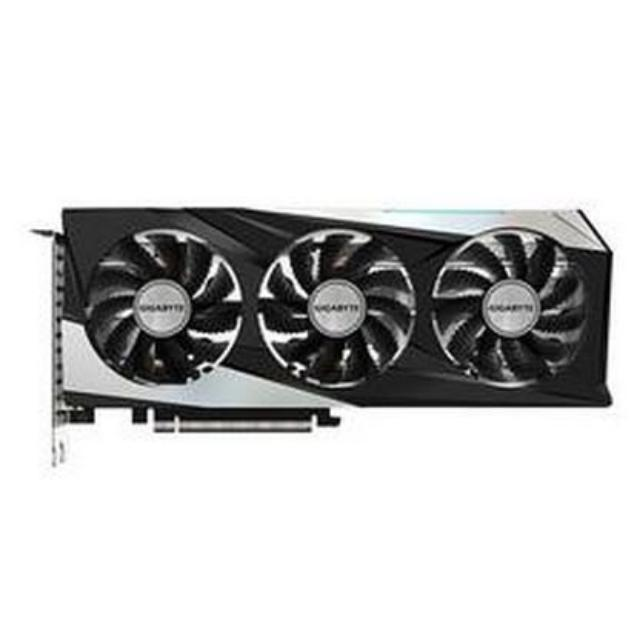GPU: (45, 196, 623, 442)
